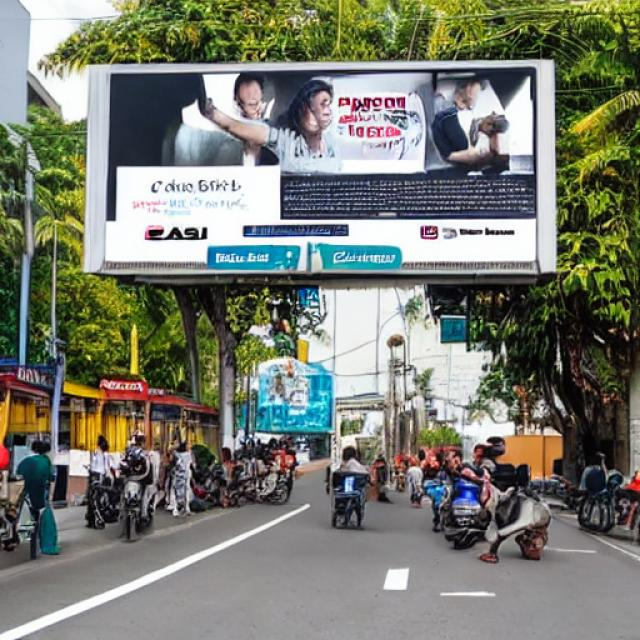Billboard: (84, 59, 558, 280)
